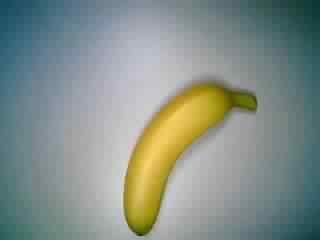banana: (118, 79, 260, 238)
